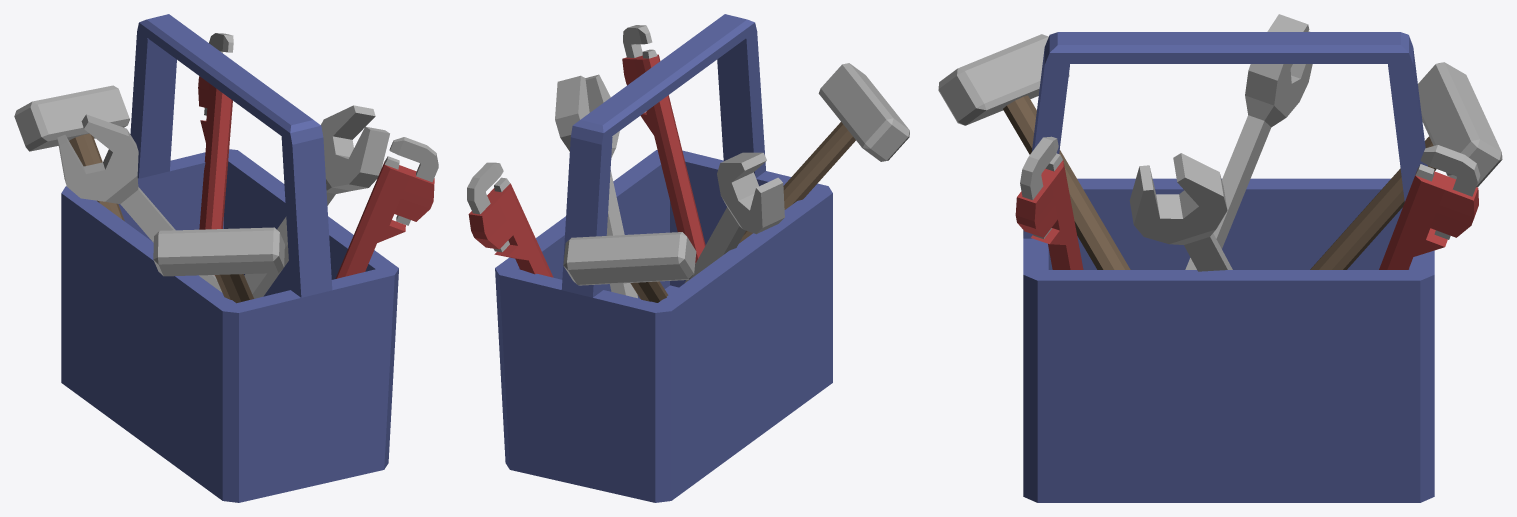
Rendered from repair_box.fbx.
3 views of the same model, side by side, from view 1: azimuth 30°, elevation 25°; view 2: azimuth 150°, elevation 25°; view 3: azimuth 270°, elevation 25° (orthographic). The views are drawn at different scales.
Parts seen in each view (by area): view 1: box, hammer.001, key.003, key.001, key, hammer, key.002; view 2: box, hammer.001, hammer, key.001, key.003, key.002, key; view 3: box, hammer.001, hammer, key, key.002, key.001, key.003.
Boxes of the visible parts, bbox=[...] form: box: bbox=[61, 14, 398, 502]; hammer.001: bbox=[153, 227, 284, 303]; key.003: bbox=[335, 137, 438, 278]; key.001: bbox=[57, 114, 222, 292]; key: bbox=[244, 105, 389, 298]; hammer: bbox=[14, 85, 129, 221]; key.002: bbox=[198, 33, 233, 275]; box: bbox=[495, 14, 832, 502]; hammer.001: bbox=[739, 63, 909, 243]; hammer: bbox=[563, 232, 696, 302]; key.001: bbox=[684, 152, 784, 283]; key.003: bbox=[622, 25, 705, 263]; key.002: bbox=[467, 162, 553, 277]; key: bbox=[555, 74, 637, 298]; box: bbox=[1023, 32, 1434, 502]; hammer.001: bbox=[938, 34, 1130, 269]; hammer: bbox=[1310, 62, 1502, 269]; key: bbox=[1129, 153, 1232, 271]; key.002: bbox=[1379, 145, 1480, 269]; key.001: bbox=[1185, 14, 1312, 269]; key.003: bbox=[1015, 136, 1083, 269].
Bounding box in the file's own units: 91.82 × 109 × 132.
